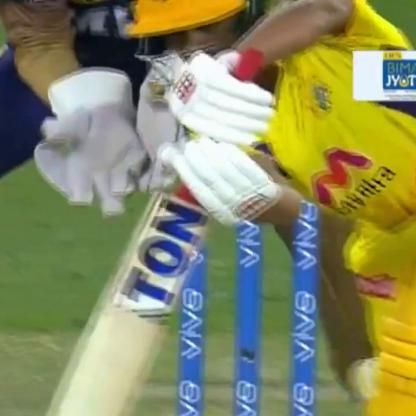bat: (32, 166, 241, 416)
